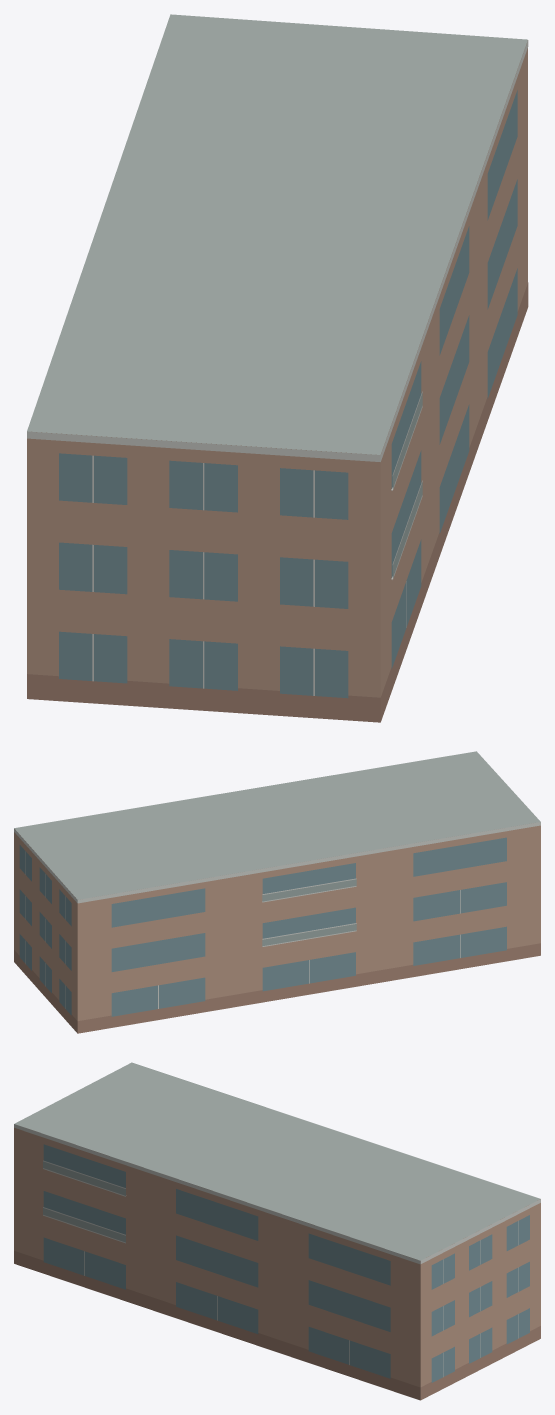
File: survey-upis-32614115.glb
3 renders of one model, top to bottom at view 1: azimuth 30°, elevation 25°; view 2: azimuth 150°, elevation 25°; view 3: azimuth 270°, elevation 25°, orthographic. The views are drawn at different scales.
Visible parts, largest first — view 1: survey-upis-32614115.tmp; view 2: survey-upis-32614115.tmp; view 3: survey-upis-32614115.tmp.
Part boxes in pixels (x1,y1,x2,y2): survey-upis-32614115.tmp: (27, 14, 528, 722); survey-upis-32614115.tmp: (14, 751, 540, 1033); survey-upis-32614115.tmp: (14, 1062, 540, 1400).
Bounding box in the file's own units: 27.84 × 9.15 × 31.26.
